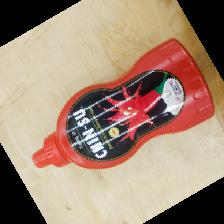Chinsu: (30, 39, 216, 171)
